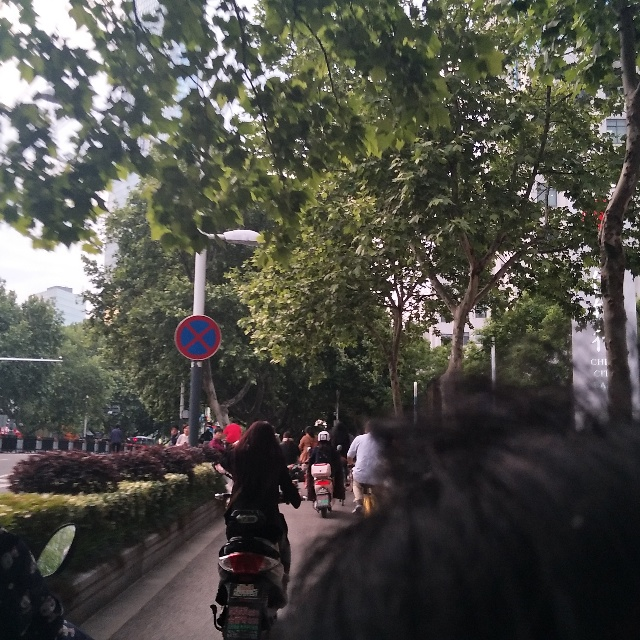stop: (178, 315, 222, 358)
